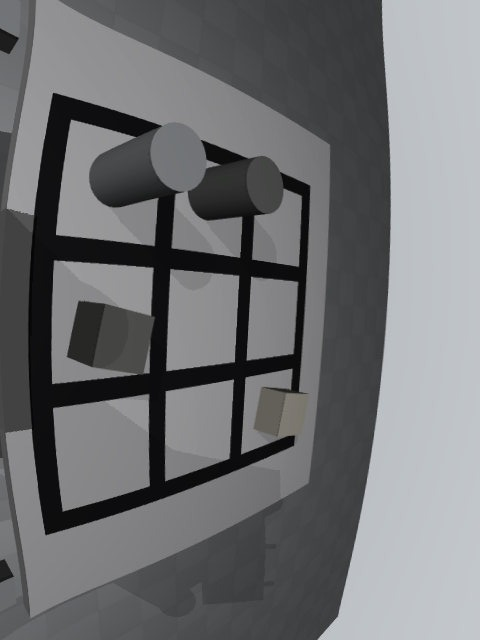can: (89, 122, 207, 207)
cube: (67, 301, 155, 375)
cylinder: (188, 156, 283, 221)
foam: (254, 387, 310, 437)
